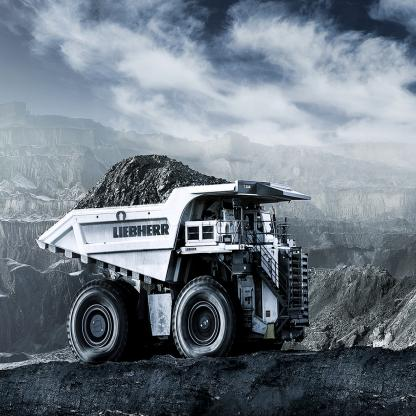dump_truck: (39, 144, 315, 356)
